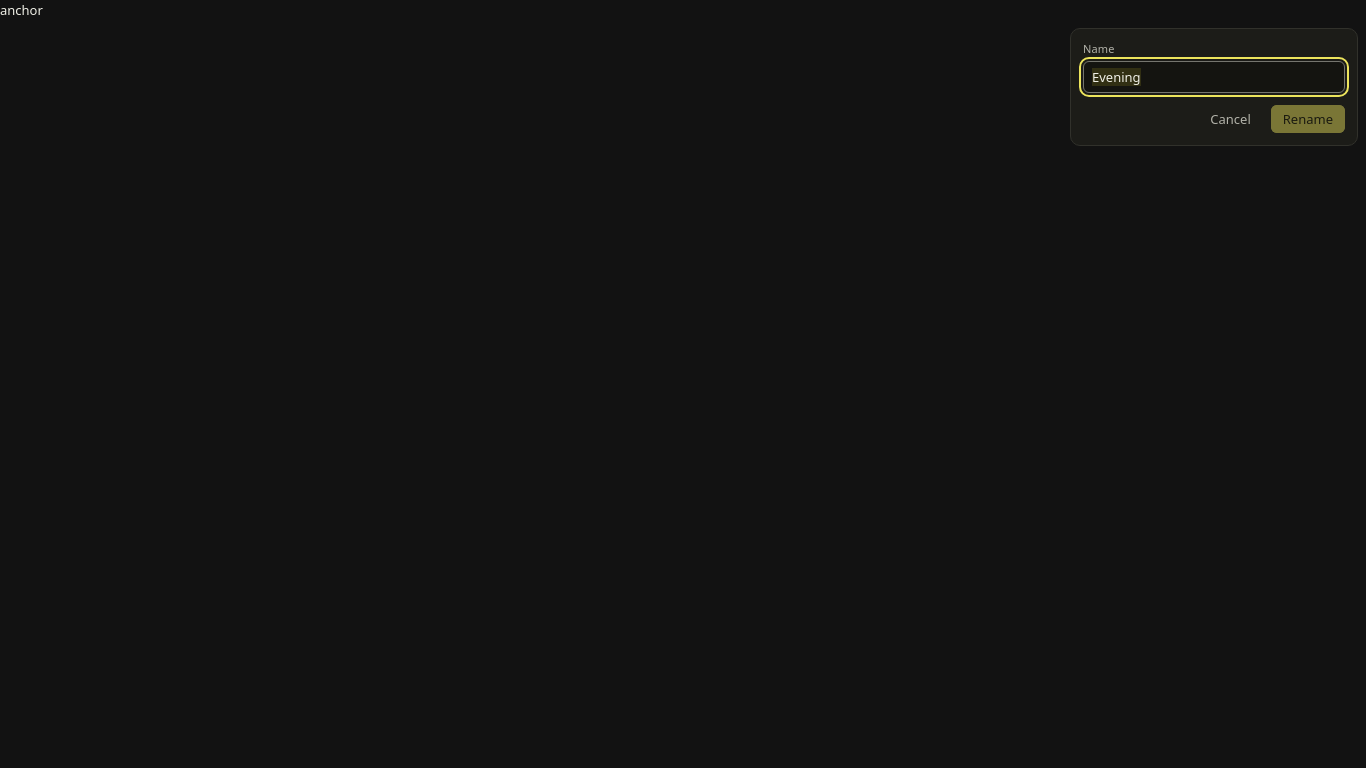
giving a saved playlist another name › cannot take another playlist's name
Later steps or results of the test are not shown.
Replace the text in the field labelled "Name" with "MORNING": (1214, 77) [1083,61,1345,93]
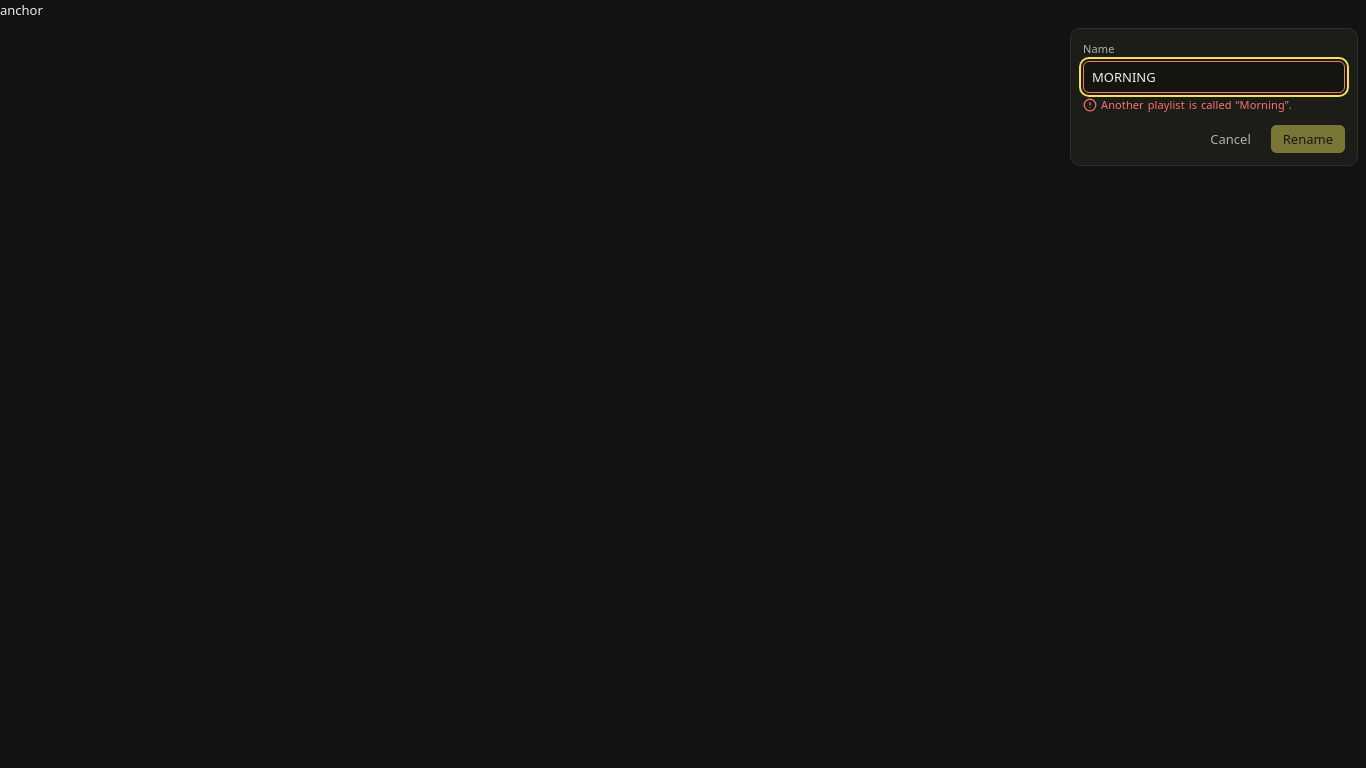
Expected: the button "Rename" is disabled, [1271,125,1345,153]
Expected: the message reads "Another playlist is called “Morning”.", [1101,97,1292,112]
